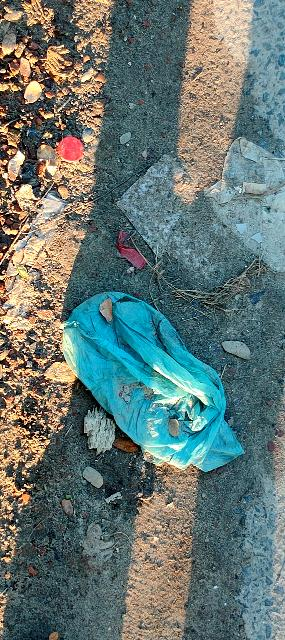polythene: (11, 260, 281, 526)
